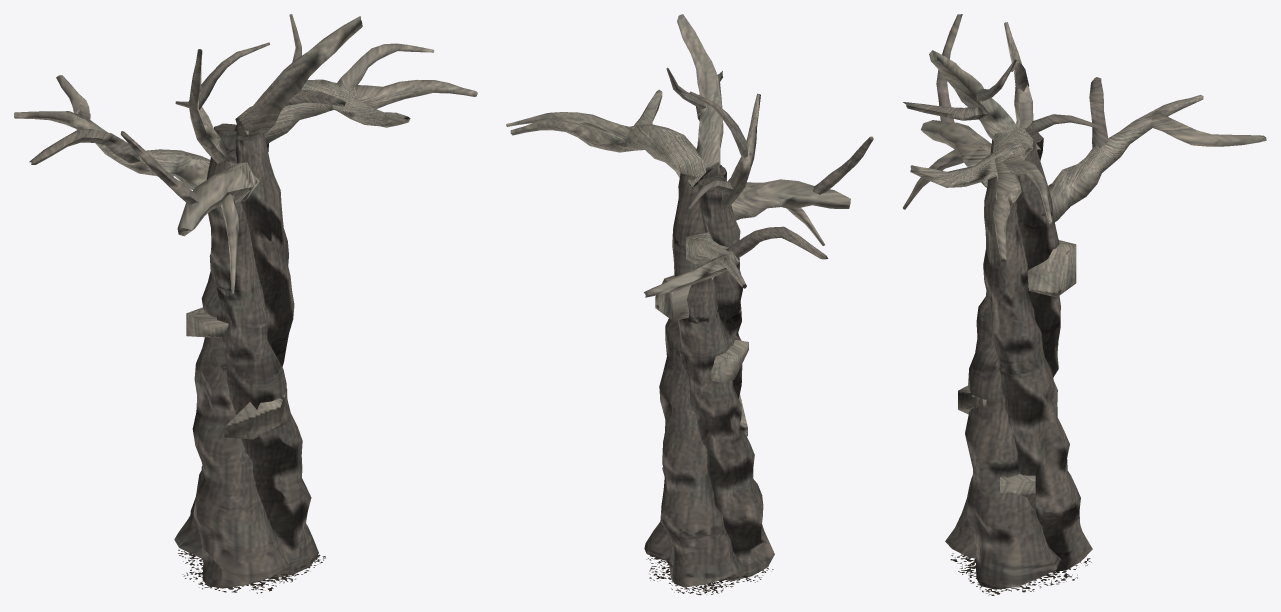
Rendered from tree_twisted_yew.glb.
3 views of the same model, side by side, from view 1: azimuth 30°, elevation 25°; view 2: azimuth 150°, elevation 25°; view 3: azimuth 270°, elevation 25° (orthographic). The views are drawn at different scales.
Parts seen in each view (by area): view 1: tree_twisted_yew; view 2: tree_twisted_yew; view 3: tree_twisted_yew.
Part boxes in pixels (<box>): tree_twisted_yew: <box>14,14,477,593</box>; tree_twisted_yew: <box>506,14,873,595</box>; tree_twisted_yew: <box>903,14,1266,595</box>.
Bounding box in the file's own units: 2.4 × 3.25 × 1.95.
Materials: 2 (2 with a texture image).
